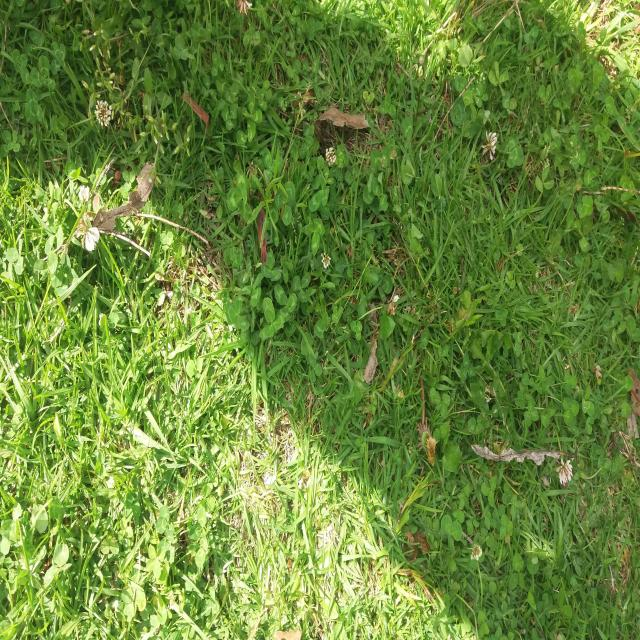Four Leaf Clover: (533, 425, 560, 460), (488, 61, 509, 96)
